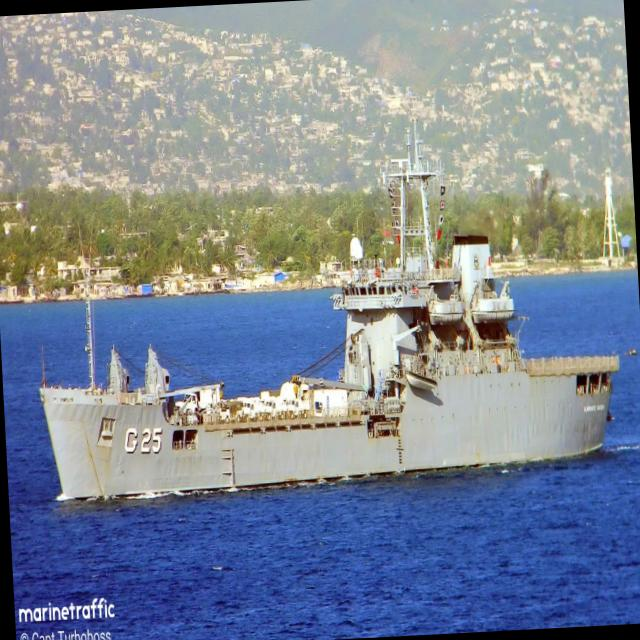Military: (39, 120, 619, 499)
